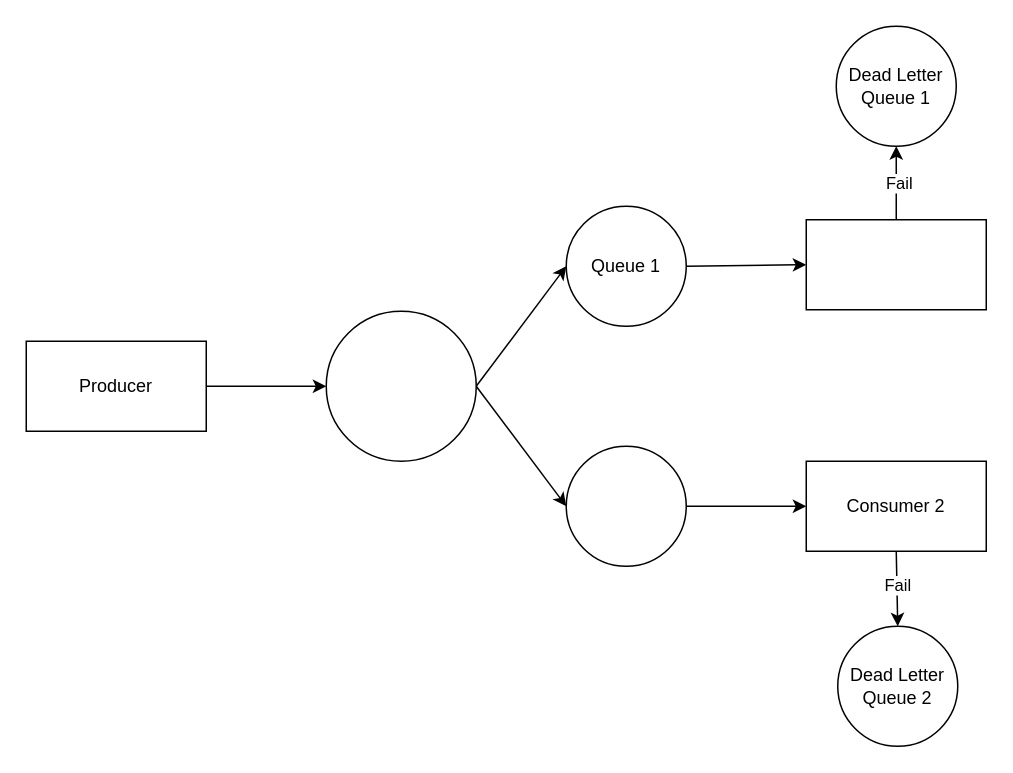
This 1013x773 diagram has some shape labels left out. The centre of each missing label's shape, as x and y in pixels:
"Consumer 1" belongs at pixel 895 264.
"Queue 2" belongs at pixel 625 505.
"RabbitMq Fan Exchange" belongs at pixel 400 385.
